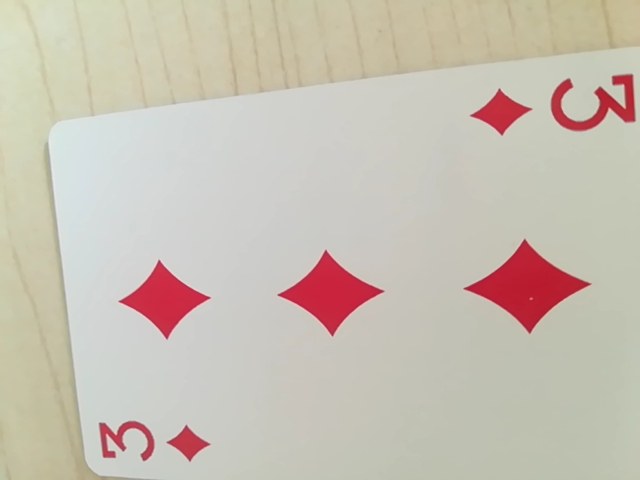fk 3: (473, 64, 639, 142), (92, 406, 218, 475)
